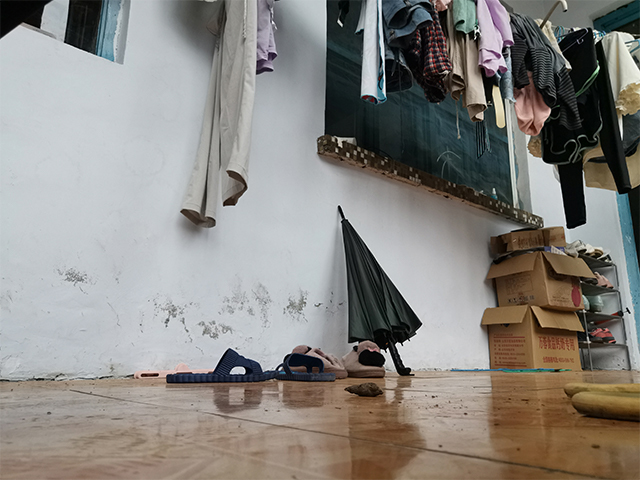feces: (342, 381, 385, 398)
slippers: (164, 346, 337, 385), (281, 340, 337, 380), (343, 340, 390, 375)
